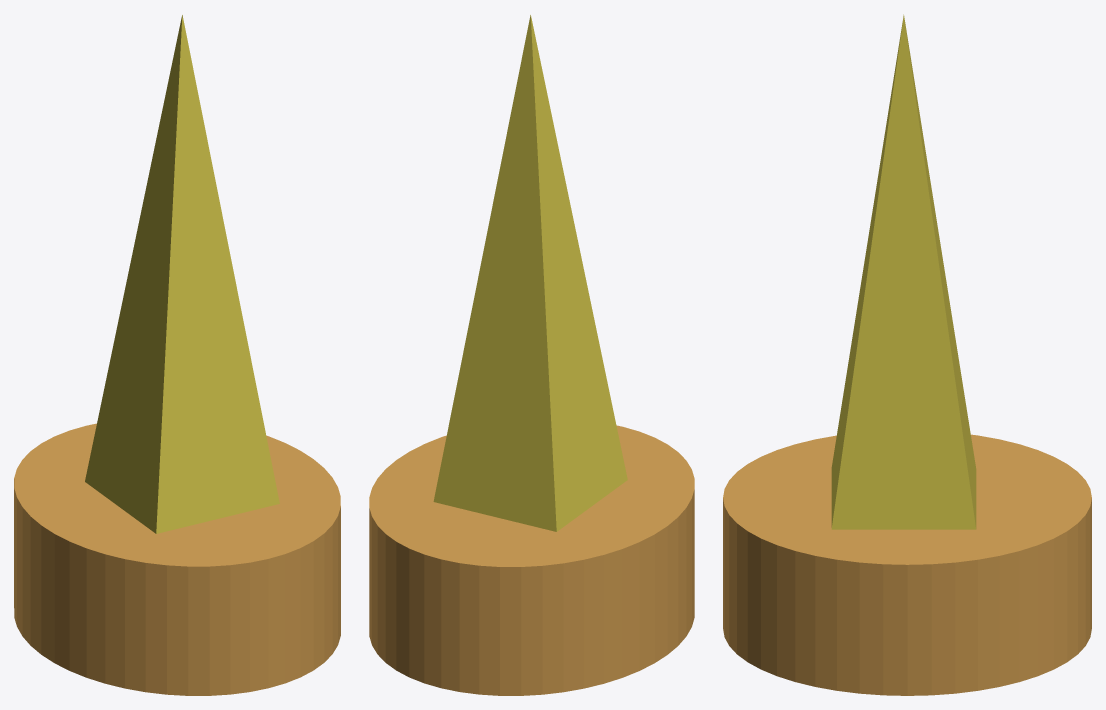
Rendered from kid.glb.
3 views of the same model, side by side, from view 1: azimuth 30°, elevation 25°; view 2: azimuth 150°, elevation 25°; view 3: azimuth 270°, elevation 25° (orthographic).
Visible parts, largest first — view 1: Mesh_Mesh_head_geo.001_lambert2SG.001; view 2: Mesh_Mesh_head_geo.001_lambert2SG.001; view 3: Mesh_Mesh_head_geo.001_lambert2SG.001.
Part boxes in pixels (x1,y1,x2,y2): Mesh_Mesh_head_geo.001_lambert2SG.001: [14, 15, 340, 695]; Mesh_Mesh_head_geo.001_lambert2SG.001: [369, 15, 694, 695]; Mesh_Mesh_head_geo.001_lambert2SG.001: [723, 14, 1091, 695].
Size of the model in its own units: 0.044 by 0.094 by 0.051.
